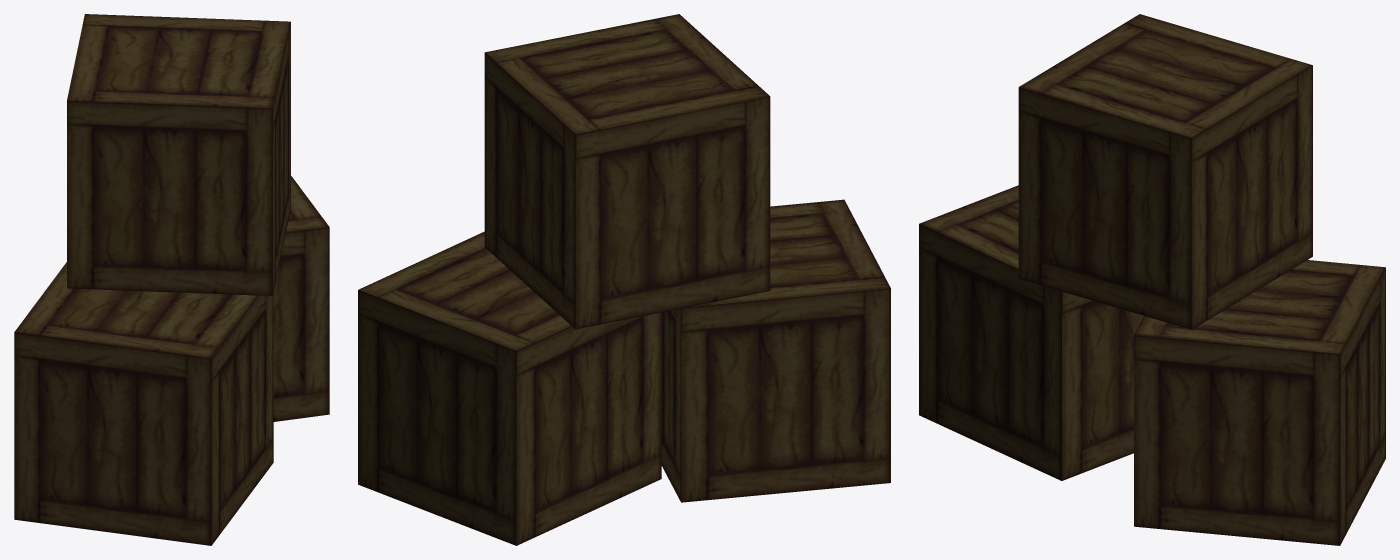
File: Caja_Tres.fbx
3 renders of one model, left to right at view 1: azimuth 30°, elevation 25°; view 2: azimuth 150°, elevation 25°; view 3: azimuth 270°, elevation 25°, orthographic. The views are drawn at different scales.
Parts seen in each view (by area): view 1: mesh_1, mesh_2, mesh; view 2: mesh_2, mesh, mesh_1; view 3: mesh_2, mesh, mesh_1.
Boxes of the visible parts, x1,y1,x2,y2 form: mesh_1: (14, 262, 273, 545); mesh_2: (67, 14, 290, 295); mesh: (273, 176, 329, 421); mesh_2: (484, 14, 770, 329); mesh: (358, 231, 661, 545); mesh_1: (661, 199, 890, 502); mesh_2: (1018, 14, 1312, 329); mesh: (1134, 260, 1385, 545); mesh_1: (919, 185, 1143, 480).
Bounding box in the file's own units: 3465299 × 3240506 × 3579223.
1 material, 1 textured.
